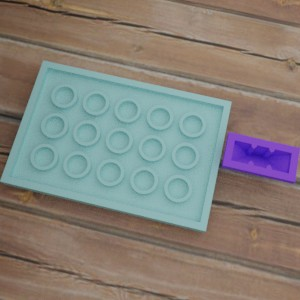lego: (0, 60, 231, 232), (221, 132, 299, 183)
